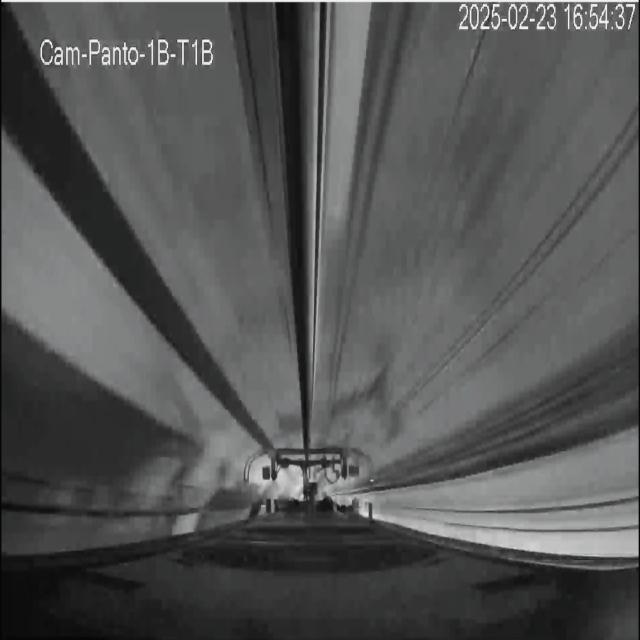Camera Stamp: (35, 28, 220, 70)
Date Stamp: (460, 3, 637, 33)
